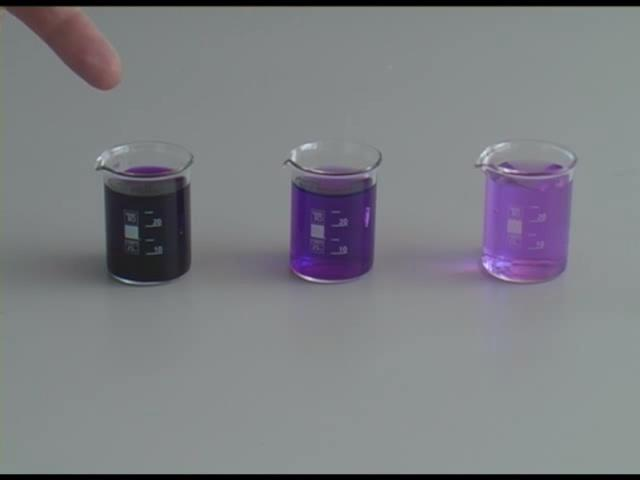Beaker: (86, 136, 196, 284), (279, 134, 381, 282), (481, 140, 575, 285)
